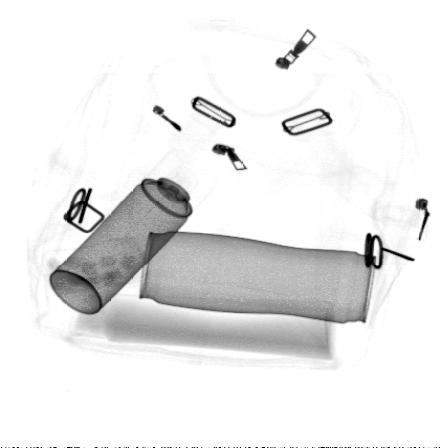Sprayer: (49, 148, 222, 316)
